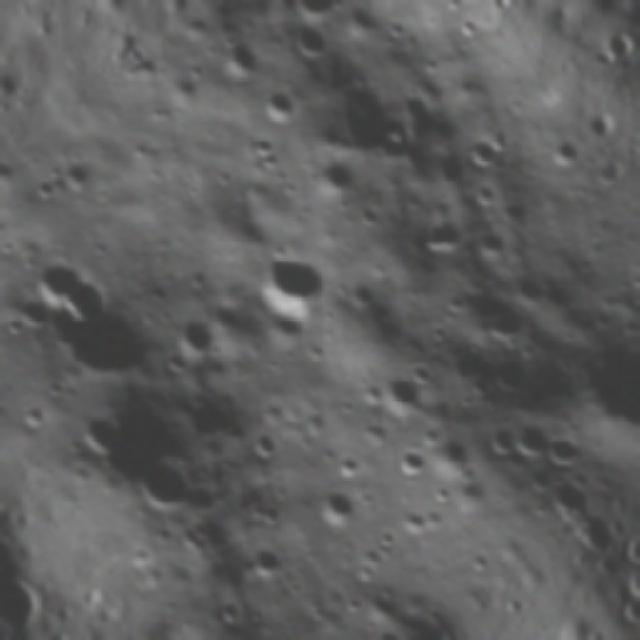crater: (24, 263, 174, 412), (242, 230, 351, 338), (17, 244, 100, 327), (125, 446, 208, 529), (400, 205, 472, 277), (530, 465, 598, 533), (302, 477, 368, 543), (308, 148, 374, 214), (72, 403, 136, 466), (458, 121, 522, 182), (458, 212, 519, 276), (529, 420, 591, 482), (236, 531, 299, 592), (214, 27, 274, 87), (286, 14, 342, 72), (250, 80, 304, 134), (538, 130, 592, 184), (476, 415, 530, 468), (385, 438, 437, 491), (52, 150, 102, 202), (509, 422, 556, 468), (210, 592, 255, 637), (280, 0, 349, 29), (244, 422, 288, 466), (25, 171, 66, 212), (0, 183, 17, 235), (0, 311, 2, 389)
